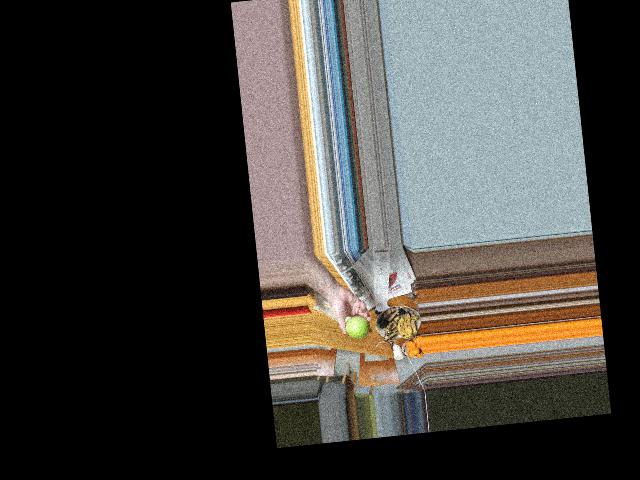apple: (345, 313, 370, 343)
